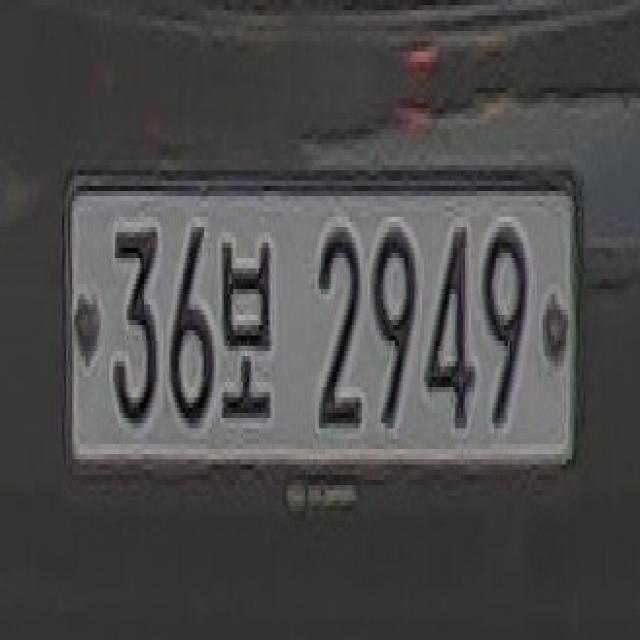2: (315, 216, 366, 438)
3: (111, 217, 161, 428)
4: (422, 222, 475, 423)
6: (167, 217, 216, 423)
9: (481, 216, 529, 434), (370, 216, 416, 438)
bo: (218, 232, 274, 428)
license_plate: (62, 170, 580, 470)
